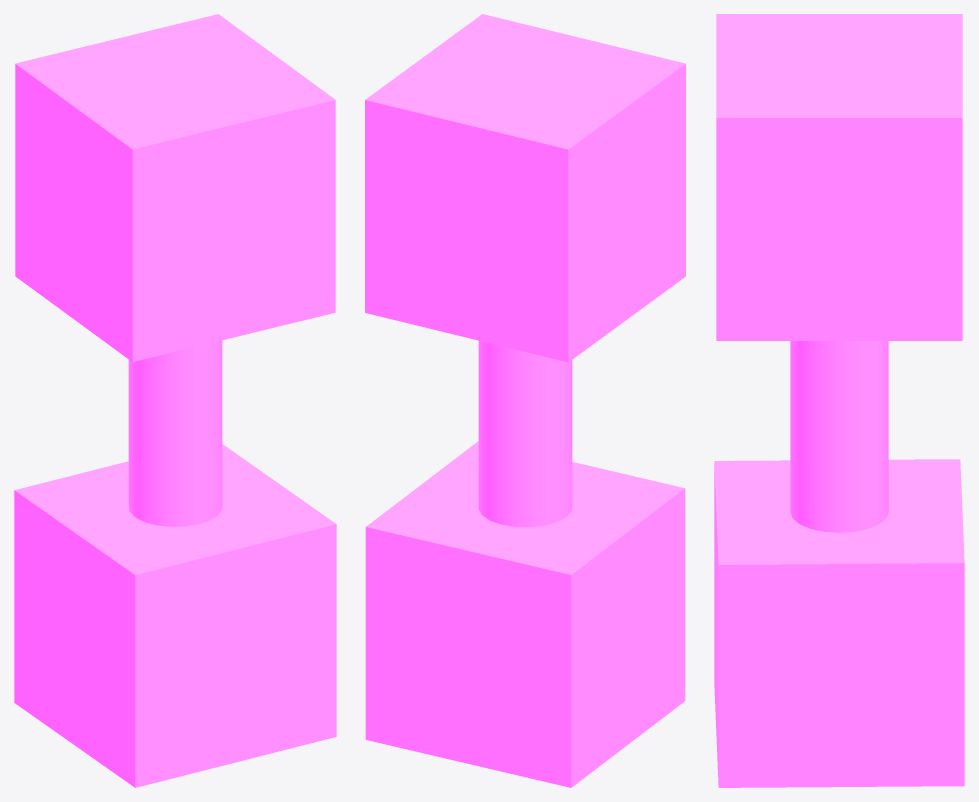
The model's file is robot_dumbbell_pink.dae.
3 views of the same model, side by side, from view 1: azimuth 30°, elevation 25°; view 2: azimuth 150°, elevation 25°; view 3: azimuth 270°, elevation 25° (orthographic). The views are drawn at different scales.
Parts seen in each view (by area): view 1: dumbell; view 2: dumbell; view 3: dumbell.
Boxes of the visible parts, box(x1,y1,x2,y2) form: dumbell: box(14, 14, 336, 787); dumbell: box(365, 14, 685, 787); dumbell: box(714, 14, 964, 787).
Bounding box in the file's own units: 5.09 × 15 × 5.09.
